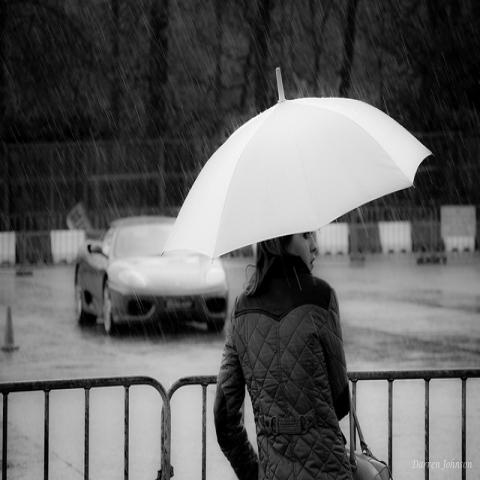car: (75, 215, 229, 339)
